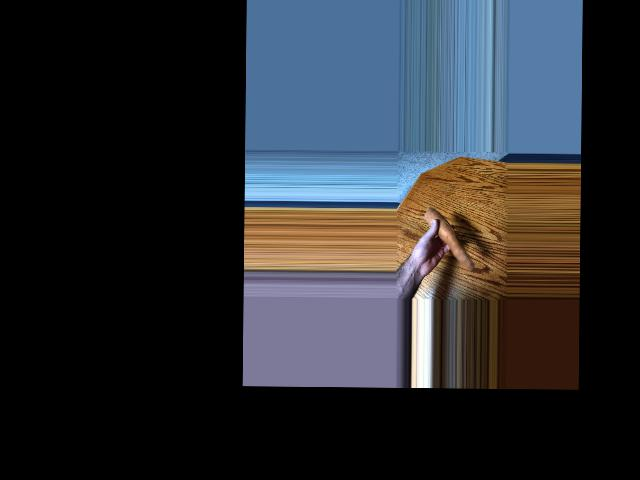sweet_potato: (422, 212, 472, 270)
